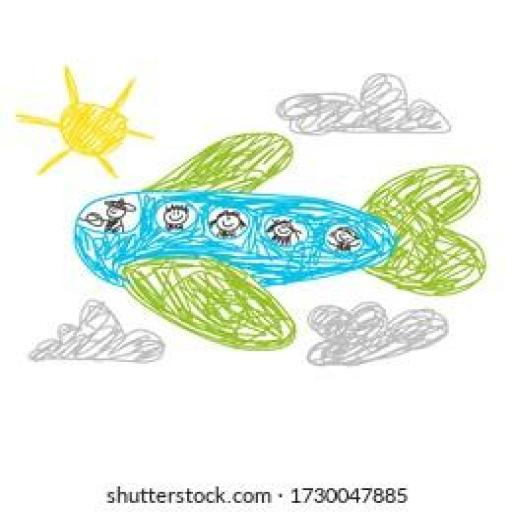person: (81, 195, 139, 238), (208, 206, 250, 253), (267, 212, 306, 252), (156, 202, 193, 242), (326, 228, 366, 254)
